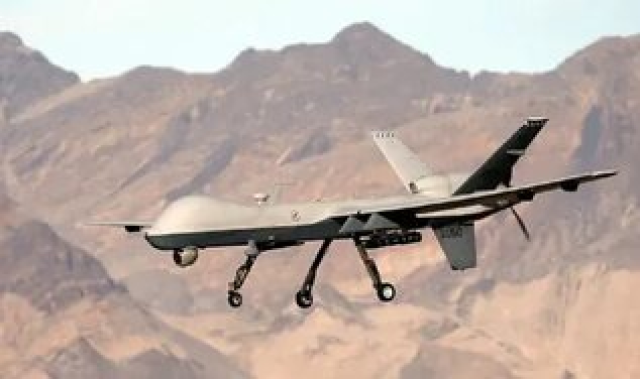military drone: (84, 116, 619, 308)
